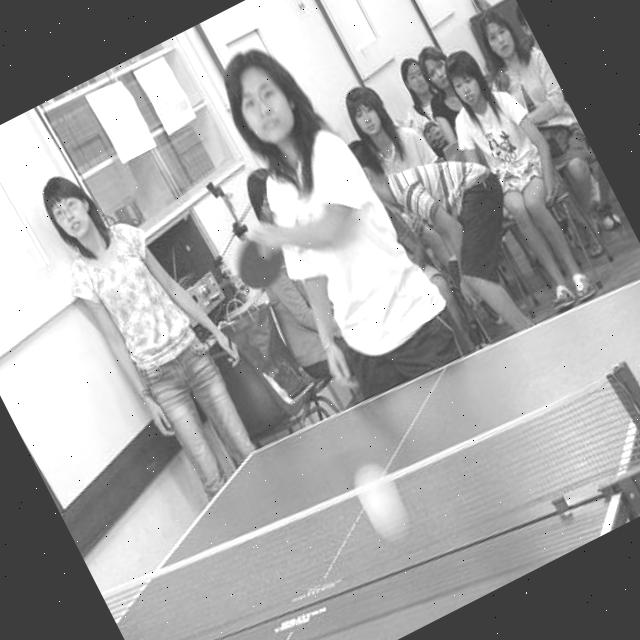ping-pong-ball: (342, 455, 417, 547)
